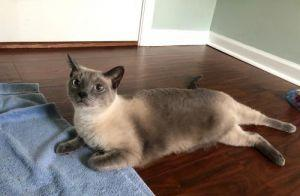siamese: (62, 50, 126, 118)
